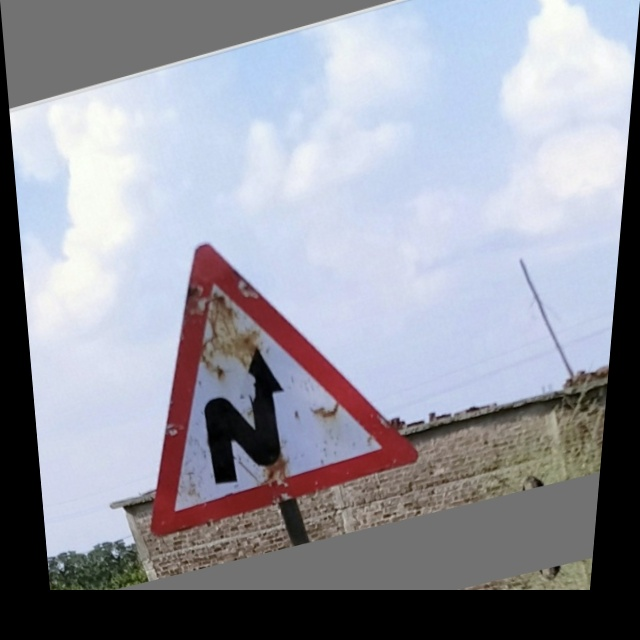Right_Reverse_Bend: (64, 204, 434, 535)
